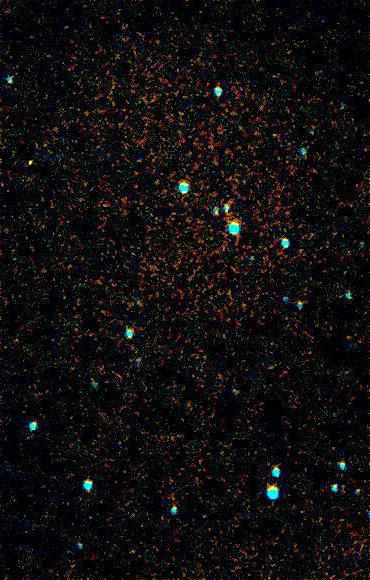star: (15, 149, 45, 179)
